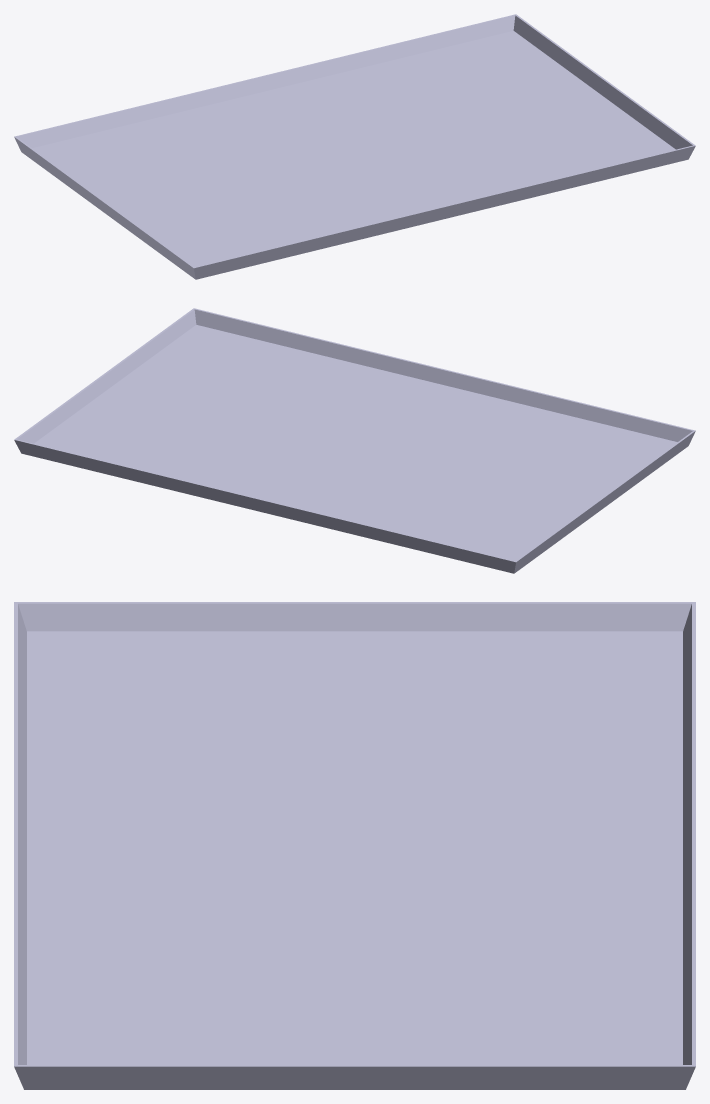
The model's file is Vassoio-Vassoio.dae.
3 views of the same model, one above another, from view 1: azimuth 30°, elevation 25°; view 2: azimuth 150°, elevation 25°; view 3: azimuth 270°, elevation 25° (orthographic). The views are drawn at different scales.
Visible parts, largest first — view 1: node0; view 2: node0; view 3: node0.
Boxes of the visible parts, left/top/right/bottom form: node0: left=14, top=14, right=695, bottom=279; node0: left=14, top=308, right=695, bottom=573; node0: left=14, top=602, right=695, bottom=1089.
Size of the model in its own units: 0.54 by 0.335 by 0.015.
